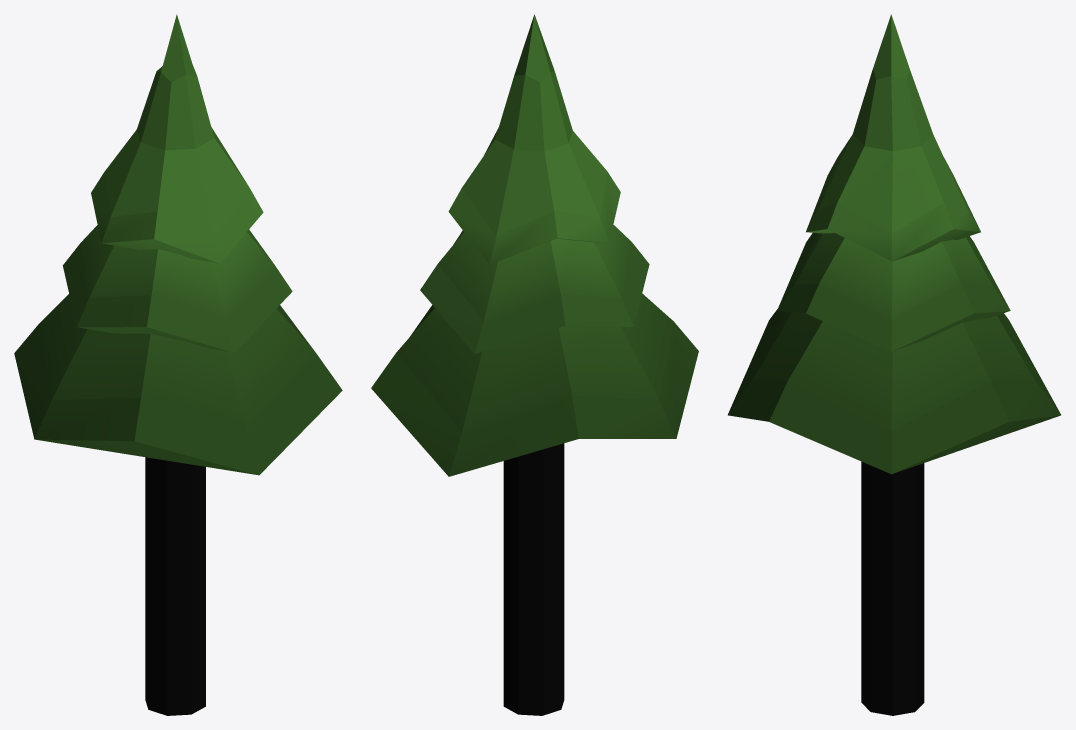
File: Mesh_Sapin04.fbx
The picture shows the model from 3 angles, left to right: view 1: azimuth 30°, elevation 25°; view 2: azimuth 150°, elevation 25°; view 3: azimuth 270°, elevation 25°; orthographic projection.
Parts seen in each view (by area): view 1: Mesh_Sapin04.001; view 2: Mesh_Sapin04.001; view 3: Mesh_Sapin04.001.
Part boxes in pixels (x1=…): Mesh_Sapin04.001: x1=14, y1=14, x2=342, y2=715; Mesh_Sapin04.001: x1=371, y1=14, x2=698, y2=715; Mesh_Sapin04.001: x1=728, y1=14, x2=1060, y2=715.
Size of the model in its own units: 209 by 483 by 212.
